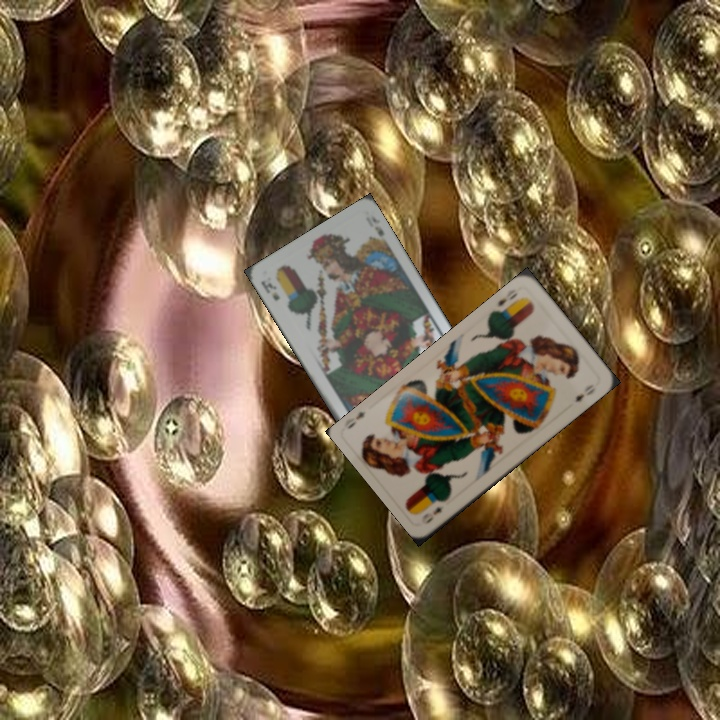EK: (257, 276, 282, 303)
EO: (490, 288, 526, 315), (417, 502, 447, 527)
